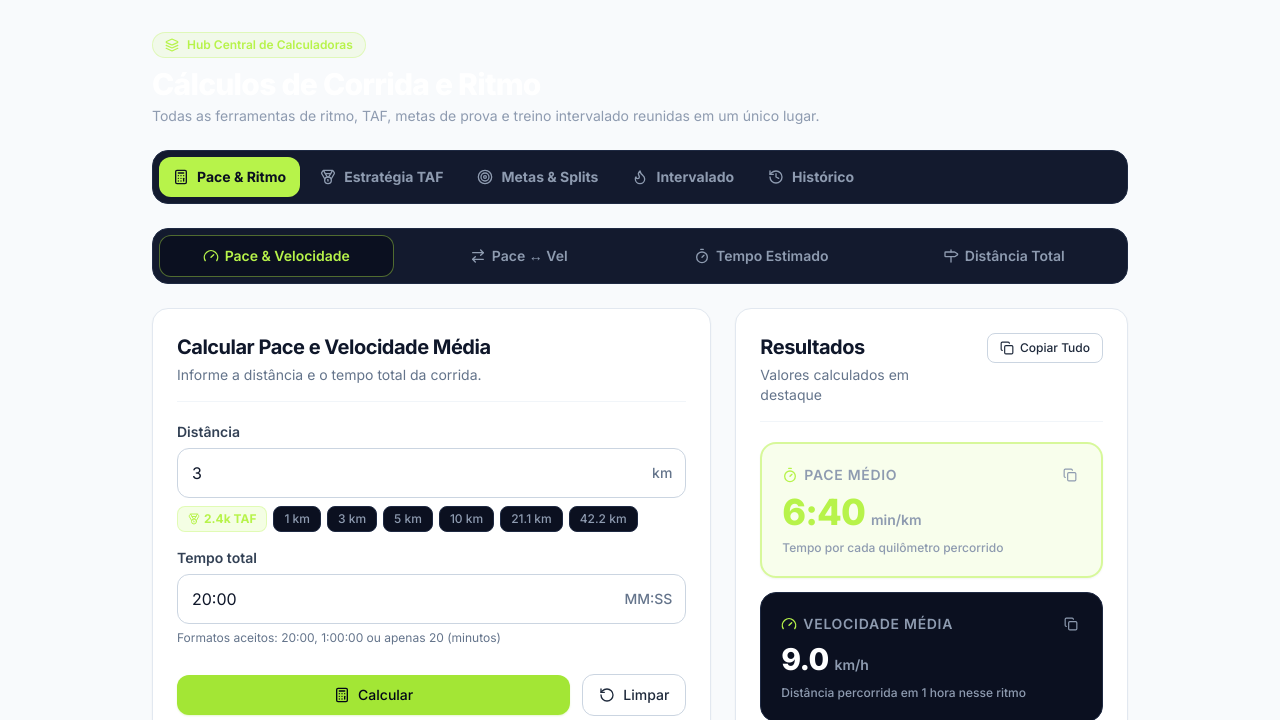
Test: CalculadoraPage › converte no modo Pace ↔ Vel de velocidade para pace (velocidade 12 km/h -> pace 5:00)
Click the button "Pace ↔ Vel" at (519, 256), box x1=402 y1=235 x2=636 y2=277
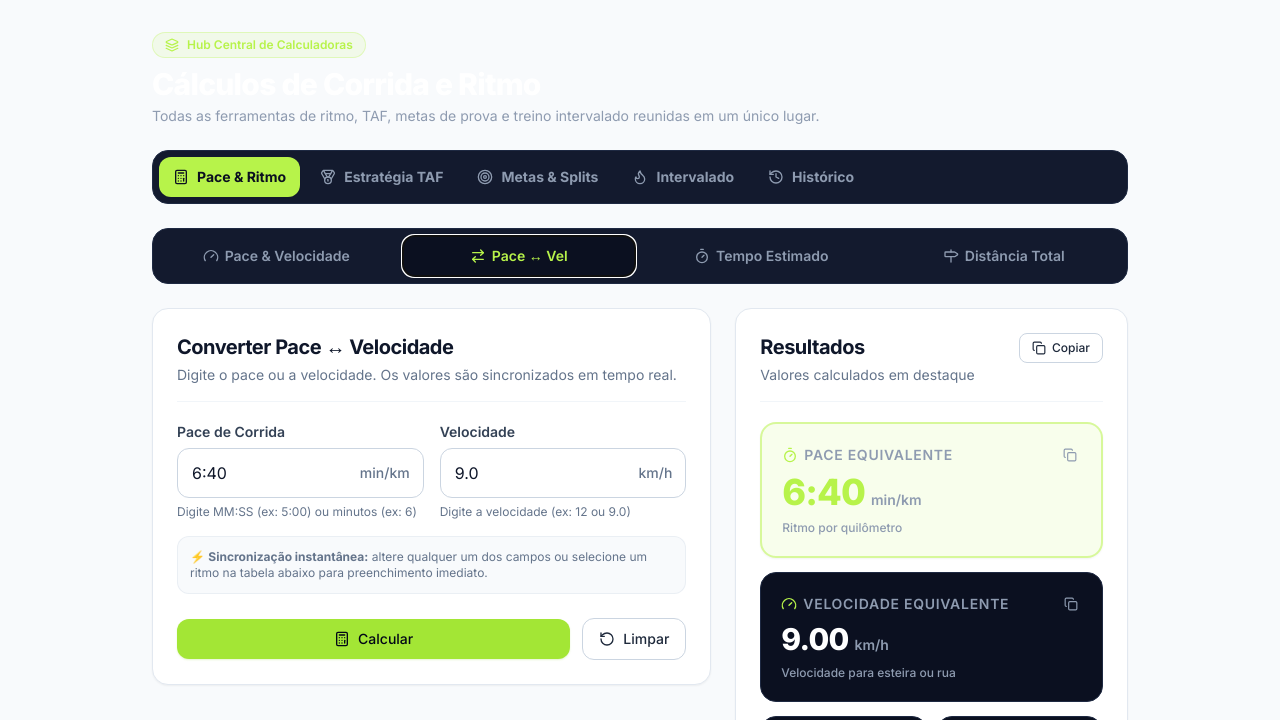
Replace the text in the field labelled "Velocidade" with "12" at (563, 473), box x1=440 y1=448 x2=686 y2=498
(page scrolled)
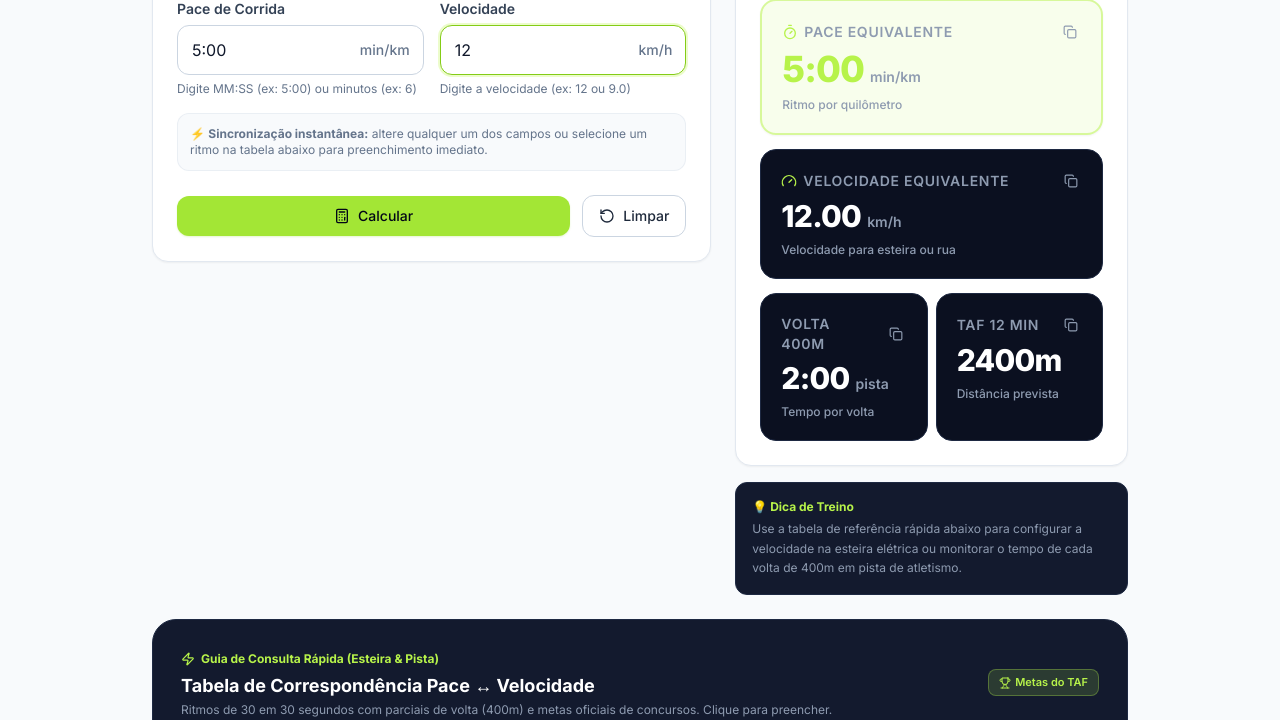
expect the field showing "5:00" is shown: met, box x1=177 y1=25 x2=424 y2=75
expect the text "2:00" is shown: met, box x1=781 y1=360 x2=850 y2=396
expect the text "2400m" is shown: met, box x1=957 y1=342 x2=1062 y2=378
